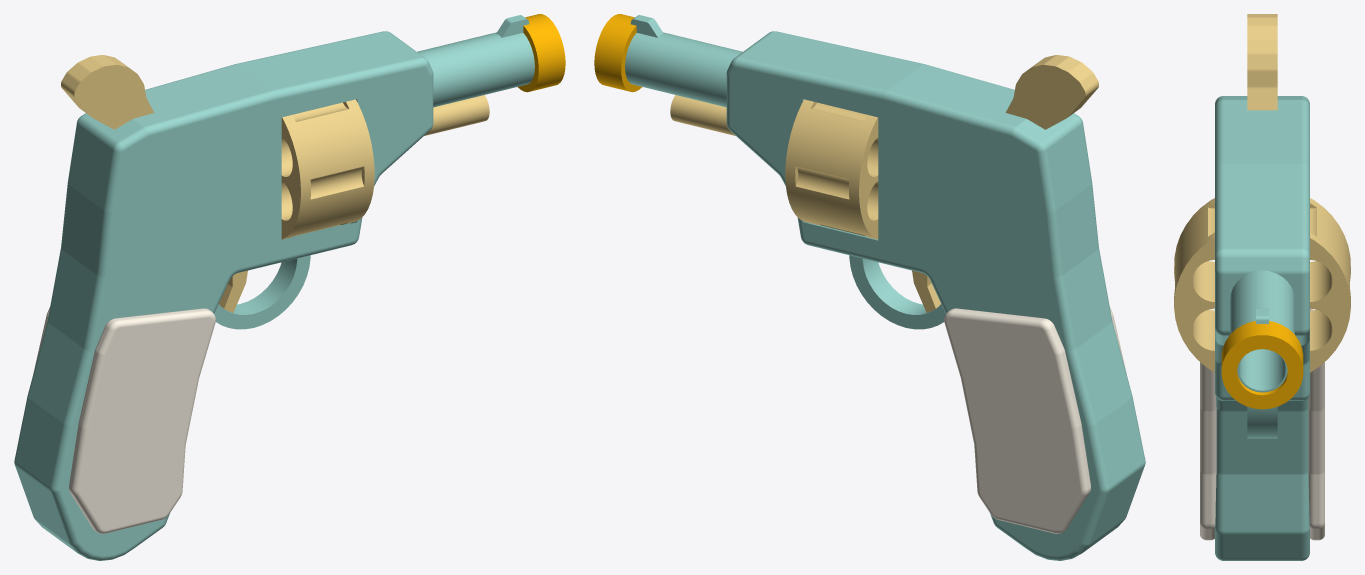
3 views of the same model, side by side, from view 1: azimuth 30°, elevation 25°; view 2: azimuth 150°, elevation 25°; view 3: azimuth 270°, elevation 25° (orthographic). The views are drawn at different scales.
Parts seen in each view (by area): view 1: =>[0:1:1:2], =>[0:1:1:13], =>[0:1:1:4], canna, =>[0:1:1:15], =>[0:1:1:19], =>[0:1:1:21], =>[0:1:1:7], =>[0:1:1:17]; view 2: =>[0:1:1:2], =>[0:1:1:10], =>[0:1:1:4], canna, =>[0:1:1:15], =>[0:1:1:19], =>[0:1:1:21], =>[0:1:1:7], =>[0:1:1:17]; view 3: =>[0:1:1:2], =>[0:1:1:4], canna, =>[0:1:1:21], =>[0:1:1:15], =>[0:1:1:10], =>[0:1:1:13], =>[0:1:1:19].
Boxes of the visible parts, left/top/right/bottom form: =>[0:1:1:2]: left=14, top=31, right=433, bottom=560; =>[0:1:1:13]: left=69, top=308, right=215, bottom=533; =>[0:1:1:4]: left=281, top=99, right=374, bottom=239; canna: left=417, top=15, right=534, bottom=107; =>[0:1:1:15]: left=61, top=55, right=154, bottom=129; =>[0:1:1:19]: left=214, top=255, right=310, bottom=329; =>[0:1:1:21]: left=518, top=14, right=565, bottom=92; =>[0:1:1:7]: left=424, top=95, right=489, bottom=135; =>[0:1:1:17]: left=219, top=270, right=247, bottom=312; =>[0:1:1:2]: left=726, top=31, right=1145, bottom=560; =>[0:1:1:10]: left=944, top=308, right=1090, bottom=533; =>[0:1:1:4]: left=785, top=99, right=878, bottom=239; canna: left=625, top=15, right=742, bottom=107; =>[0:1:1:15]: left=1005, top=55, right=1098, bottom=129; =>[0:1:1:19]: left=849, top=255, right=945, bottom=329; =>[0:1:1:21]: left=594, top=14, right=641, bottom=92; =>[0:1:1:7]: left=670, top=95, right=735, bottom=135; =>[0:1:1:17]: left=912, top=270, right=940, bottom=312; =>[0:1:1:2]: left=1215, top=96, right=1309, bottom=560; =>[0:1:1:4]: left=1174, top=198, right=1350, bottom=372; canna: left=1230, top=270, right=1294, bottom=392; =>[0:1:1:21]: left=1221, top=321, right=1303, bottom=409; =>[0:1:1:15]: left=1247, top=14, right=1277, bottom=110; =>[0:1:1:10]: left=1308, top=308, right=1324, bottom=540; =>[0:1:1:13]: left=1200, top=308, right=1216, bottom=540; =>[0:1:1:19]: left=1247, top=406, right=1277, bottom=438.
Bounding box in the file's own units: 154 × 138 × 40.93.
